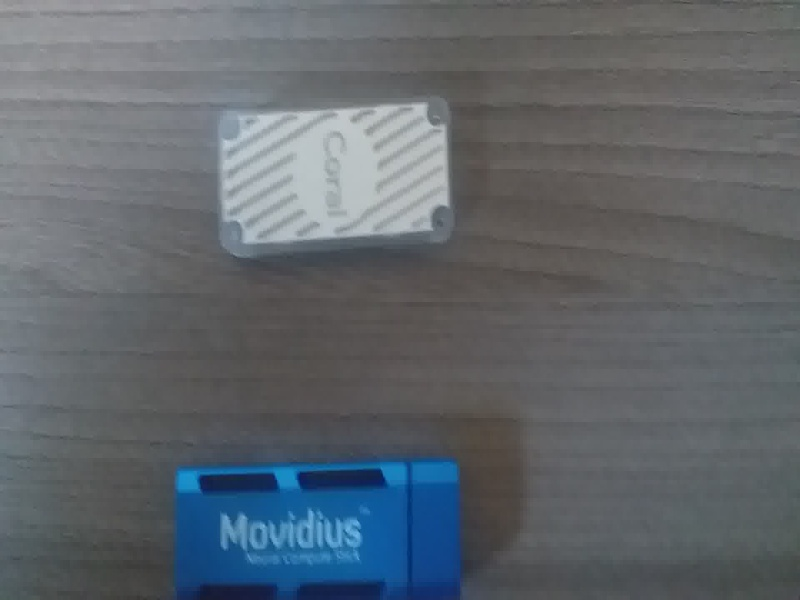coral: (211, 95, 471, 264)
movidius: (164, 452, 471, 595)
